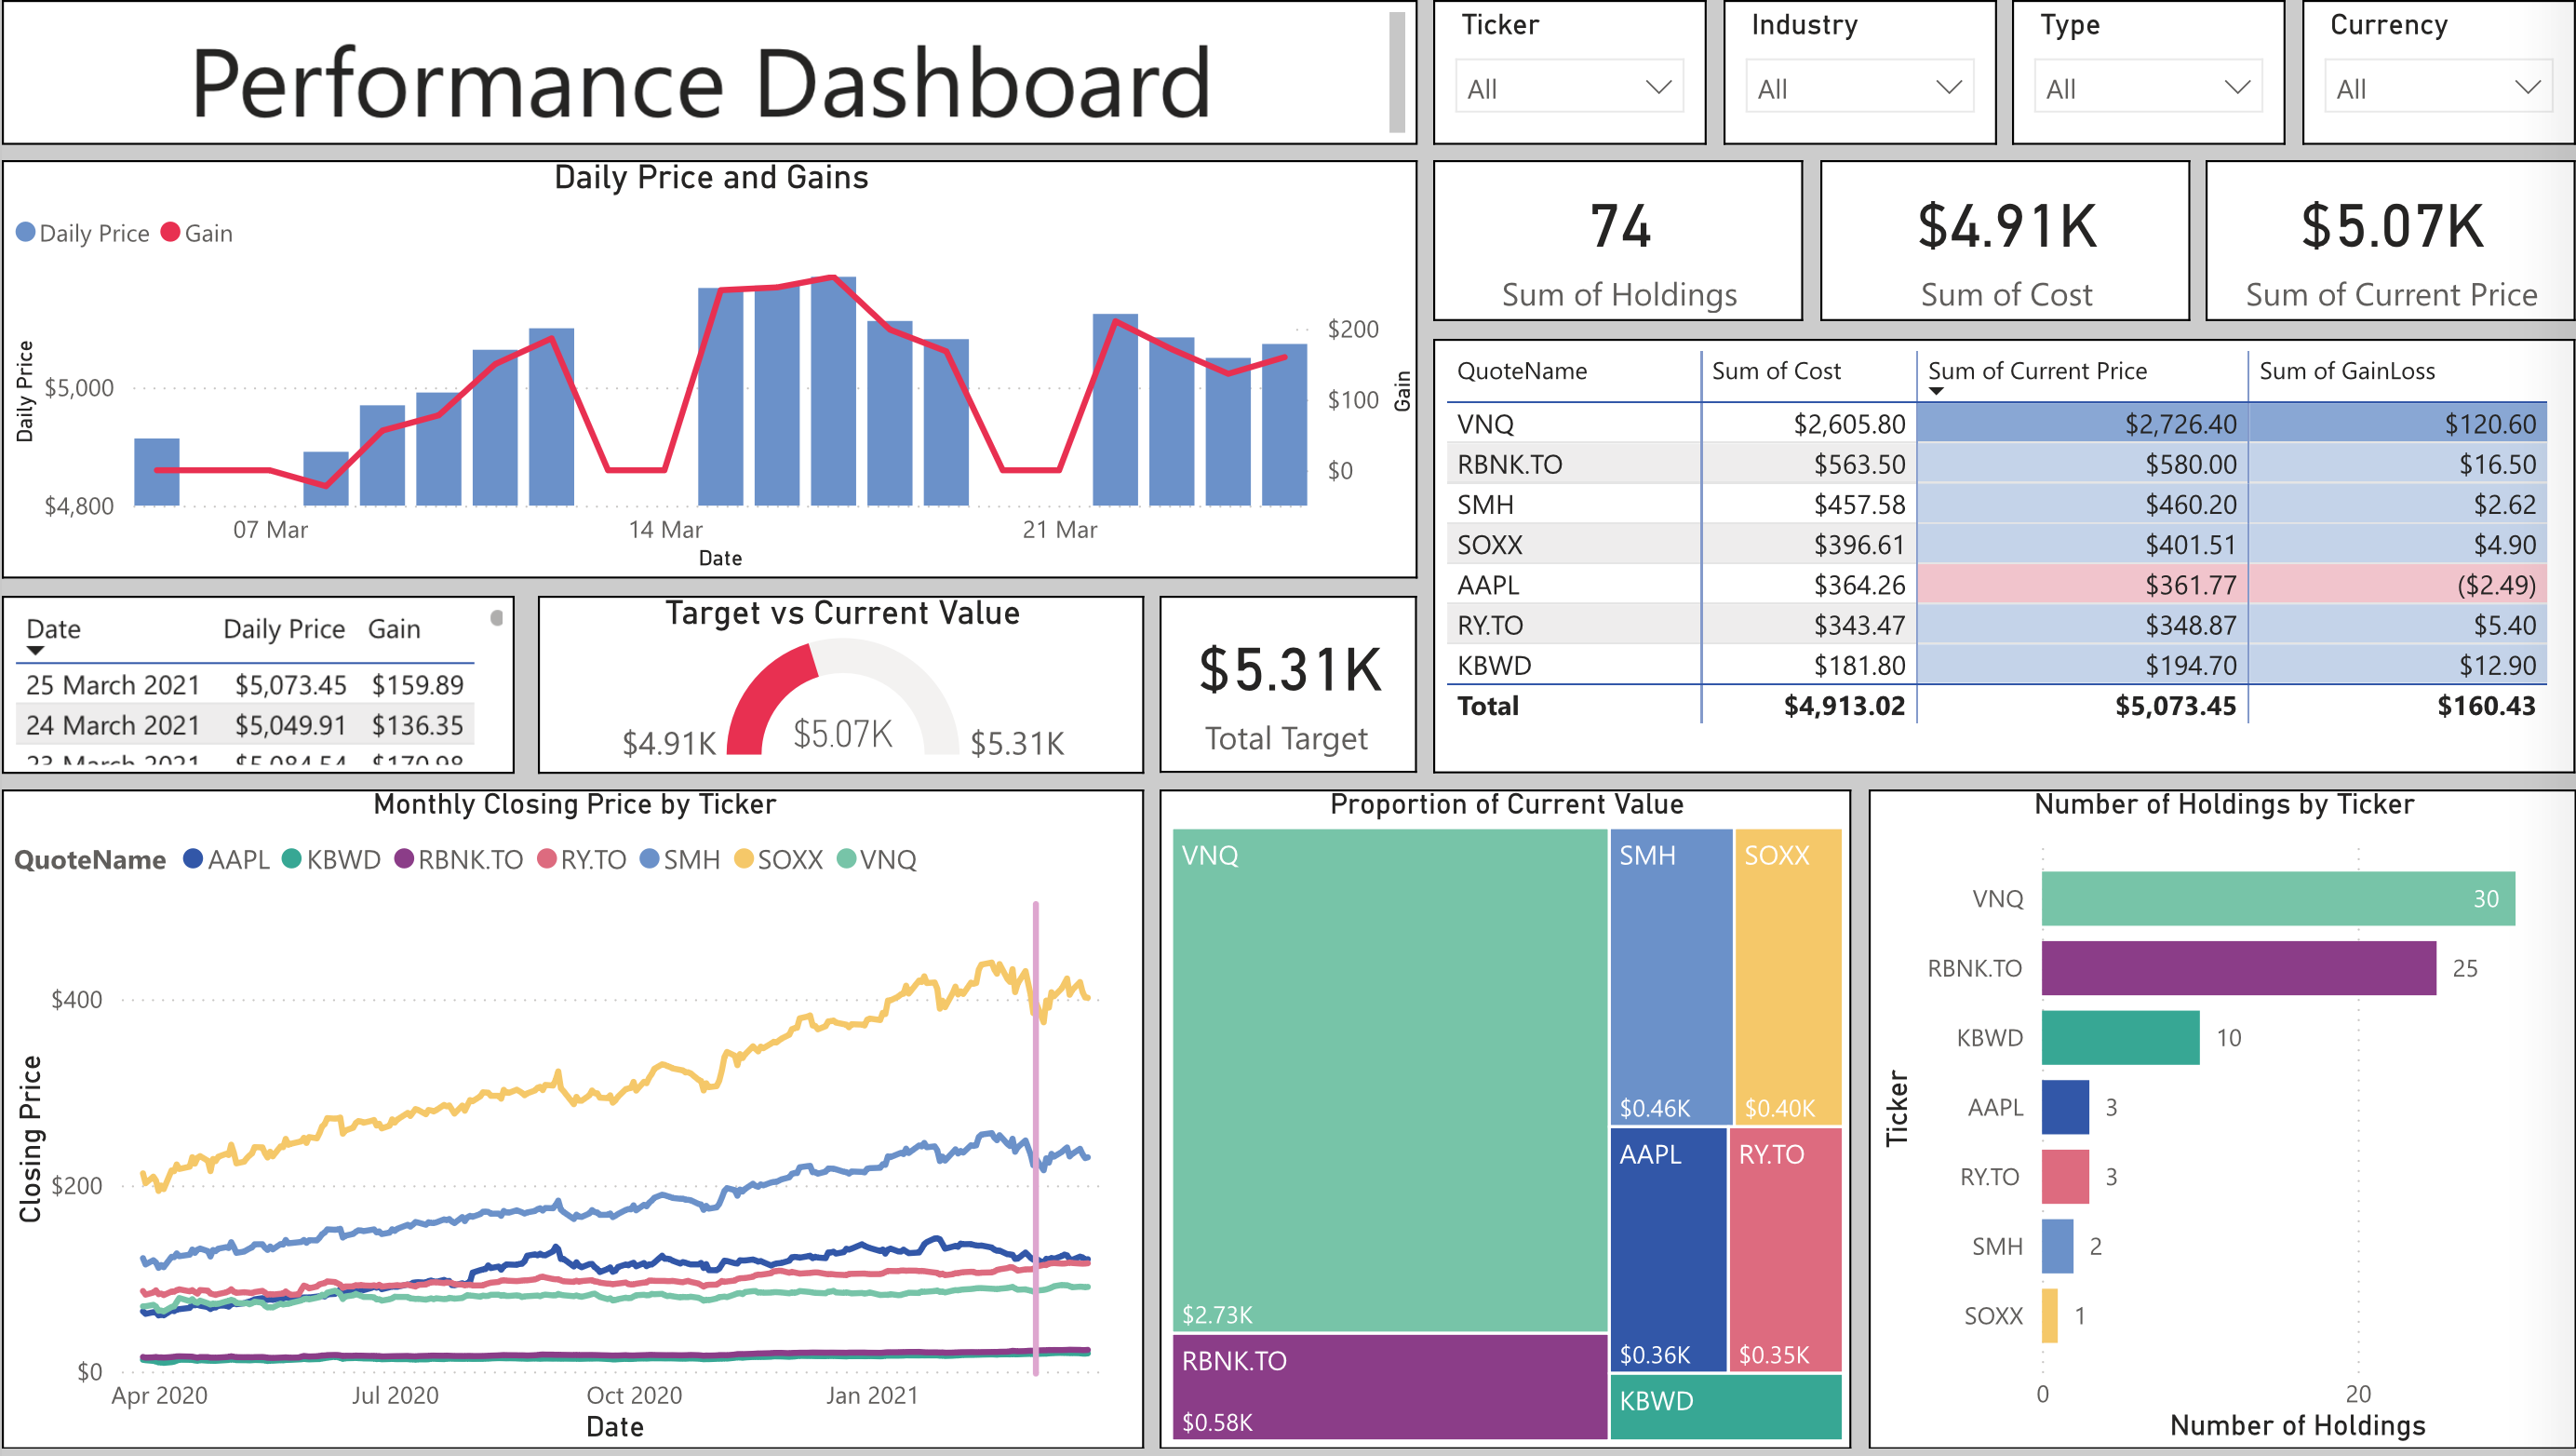

Layout of this report page (visuals, bound fields, positions):
{"tool":"powerbi","page":{"name":"Performance Dashboard","canvas":[1280,720],"ordinal":1},"visuals":[{"type":"lineChart","title":"Monthly Closing Price by Ticker","fields":{"Category":["Sheet1.Date"],"Y":["Sum(Sheet1.Close)"],"Series":["Sheet1.QuoteName"]},"box":[0,392,568,328],"z":0},{"type":"clusteredBarChart","title":"Number of Holdings by Ticker","fields":{"Category":["holdings.QuoteName"],"Y":["Sum(holdings.Holdings)"]},"box":[928,392,352,328],"z":1000},{"type":"card","fields":{"Values":["Sum(holdings.Cost)"]},"box":[904,80,184,80],"z":2000},{"type":"card","fields":{"Values":["Sum(holdings.Holdings)"]},"box":[712,80,184,80],"z":3000},{"type":"card","fields":{"Values":["Sum(holdings.RecentCost)"]},"box":[1096,80,184,80],"z":4000},{"type":"slicer","fields":{"Values":["holdings.QuoteName"]},"box":[712,0,136,72],"z":5000},{"type":"treemap","title":"Proportion of Current Value","fields":{"Values":["Sum(holdings.RecentCost)"],"Group":["holdings.QuoteName"]},"box":[576,392,344,328],"z":6000},{"type":"tableEx","fields":{"Values":["holdings.QuoteName","Sum(holdings.Cost)","holdings.RecentCost","holdings.GainLoss"]},"box":[712,168,568,216],"z":7000},{"type":"slicer","fields":{"Values":["type.Industry"]},"box":[856,0,136,72],"z":8000},{"type":"slicer","fields":{"Values":["type.Type"]},"box":[1000,0,136,72],"z":9000},{"type":"slicer","fields":{"Values":["type.Currency"]},"box":[1144,0,136,72],"z":10000},{"type":"textbox","box":[0,0,704,72],"z":11000},{"type":"lineClusteredColumnComboChart","title":"Daily Price and Gains","fields":{"Category":["dailytrend.Date"],"Y":["Sum(dailytrend.Daily Price)"],"Y2":["Sum(dailytrend.Gain)"]},"box":[0,80,704,208],"z":12000},{"type":"tableEx","fields":{"Values":["dailytrend.Date","dailytrend.Daily Price","dailytrend.Gain"]},"box":[0,296.5,254.9,88.3],"z":13000},{"type":"gauge","title":"Target vs Current Value","fields":{"MinValue":["Sum(holdings.Cost)"],"Y":["Sum(holdings.Current Price)"],"MaxValue":["Sum(type.Total Target)"]},"box":[266.5,296.5,301.5,88.3],"z":14000},{"type":"card","fields":{"Values":["Sum(type.Total Target)"]},"box":[576,296,128,88],"z":15000}]}

Visuals, with their boxes in screenshot pixels (x1, y1, x2, y2), scaled from the page's 1280x720 canvas onto the 2576x1456 screenshot:
"Monthly Closing Price by Ticker" lineChart: (0, 793, 1143, 1455)
"Number of Holdings by Ticker" clusteredBarChart: (1868, 793, 2575, 1455)
card - Sum(holdings.Cost): (1819, 162, 2190, 324)
card - Sum(holdings.Holdings): (1433, 162, 1804, 324)
card - Sum(holdings.RecentCost): (2206, 162, 2575, 324)
slicer - holdings.QuoteName: (1433, 0, 1707, 145)
"Proportion of Current Value" treemap: (1160, 793, 1852, 1455)
tableEx - holdings.QuoteName x Sum(holdings.Cost): (1433, 340, 2575, 776)
slicer - type.Industry: (1723, 0, 1996, 145)
slicer - type.Type: (2012, 0, 2287, 145)
slicer - type.Currency: (2302, 0, 2575, 145)
textbox: (0, 0, 1416, 145)
"Daily Price and Gains" lineClusteredColumnComboChart: (0, 162, 1416, 583)
tableEx - dailytrend.Date x dailytrend.Daily Price: (0, 600, 513, 778)
"Target vs Current Value" gauge: (536, 600, 1143, 778)
card - Sum(type.Total Target): (1160, 599, 1416, 776)
